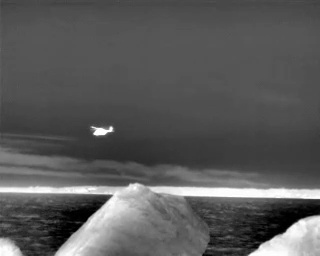HELICOPTER: (87, 120, 118, 142)
